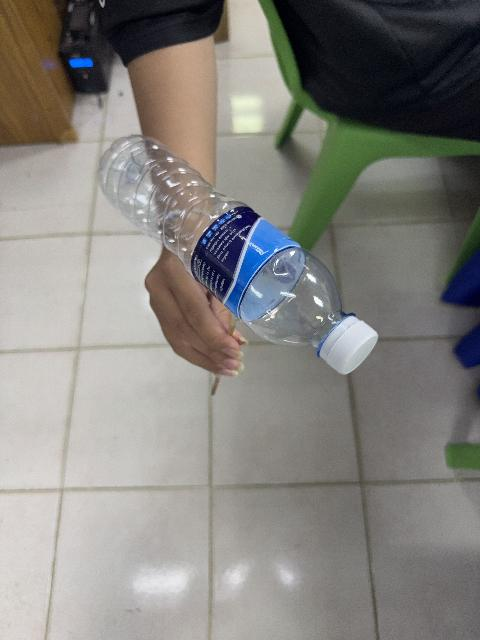bottle: (99, 136, 377, 373)
